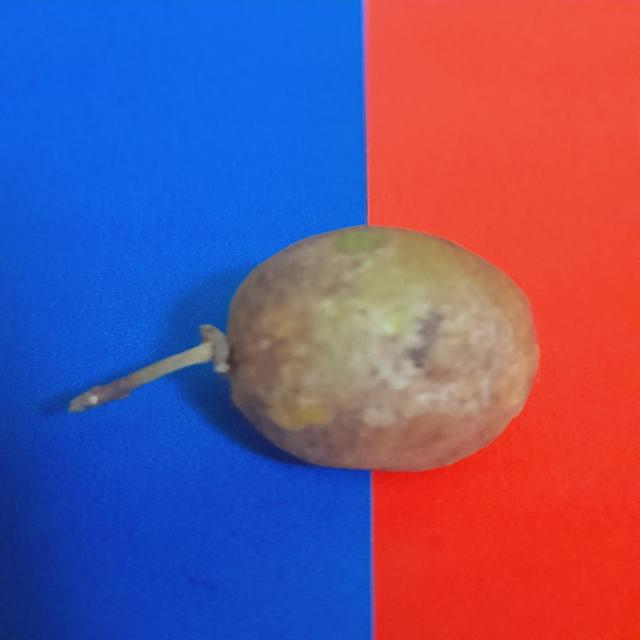thrips: (215, 221, 552, 491)
